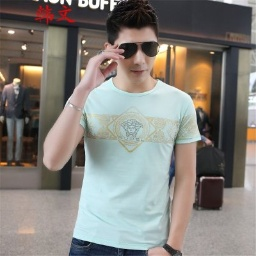face: (106, 1, 160, 83)
